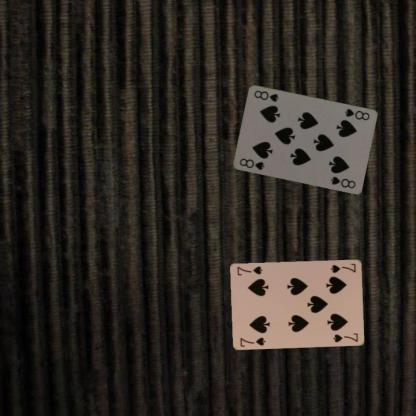7s: (237, 334, 267, 348), (328, 260, 357, 274)
8s: (341, 106, 371, 122), (237, 156, 265, 171)
